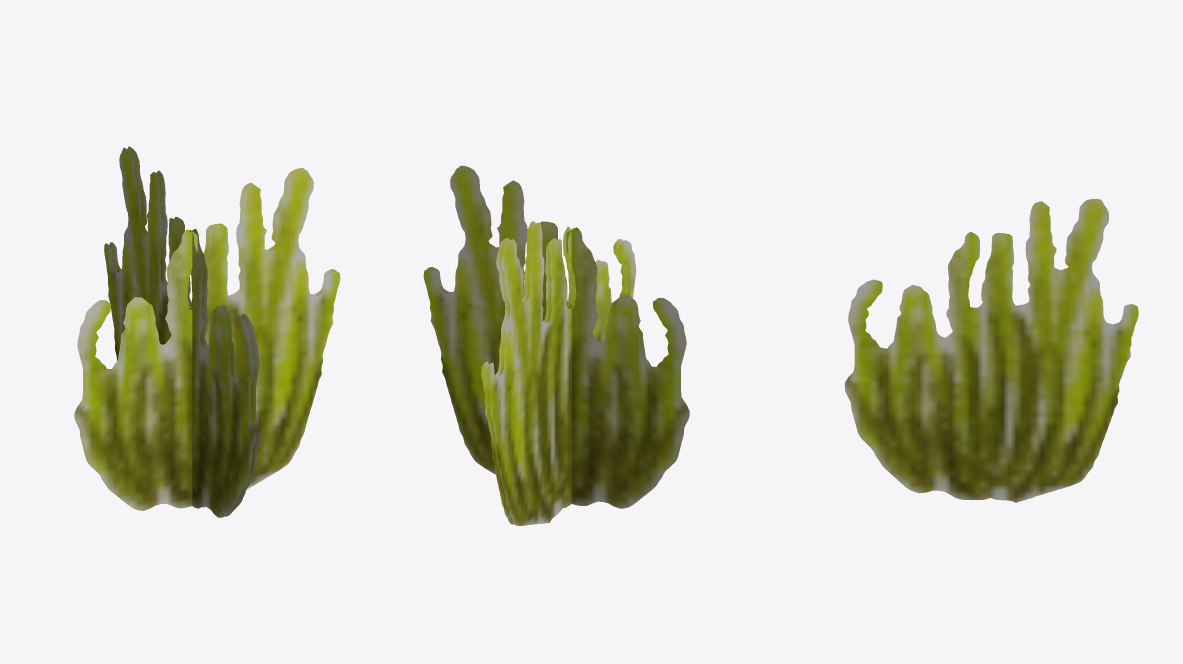
The model's file is Grass7.fbx.
3 renders of one model, left to right at view 1: azimuth 30°, elevation 25°; view 2: azimuth 150°, elevation 25°; view 3: azimuth 270°, elevation 25°, orthographic. The views are drawn at different scales.
Visible parts, largest first — view 1: Grass7; view 2: Grass7; view 3: Grass7.
Part boxes in pixels (<box>): Grass7: <box>74,146,340,517</box>; Grass7: <box>423,165,689,525</box>; Grass7: <box>844,198,1138,502</box>.
Size of the model in its own units: 275 by 365 by 275.
Materials: 1 (1 with a texture image).
